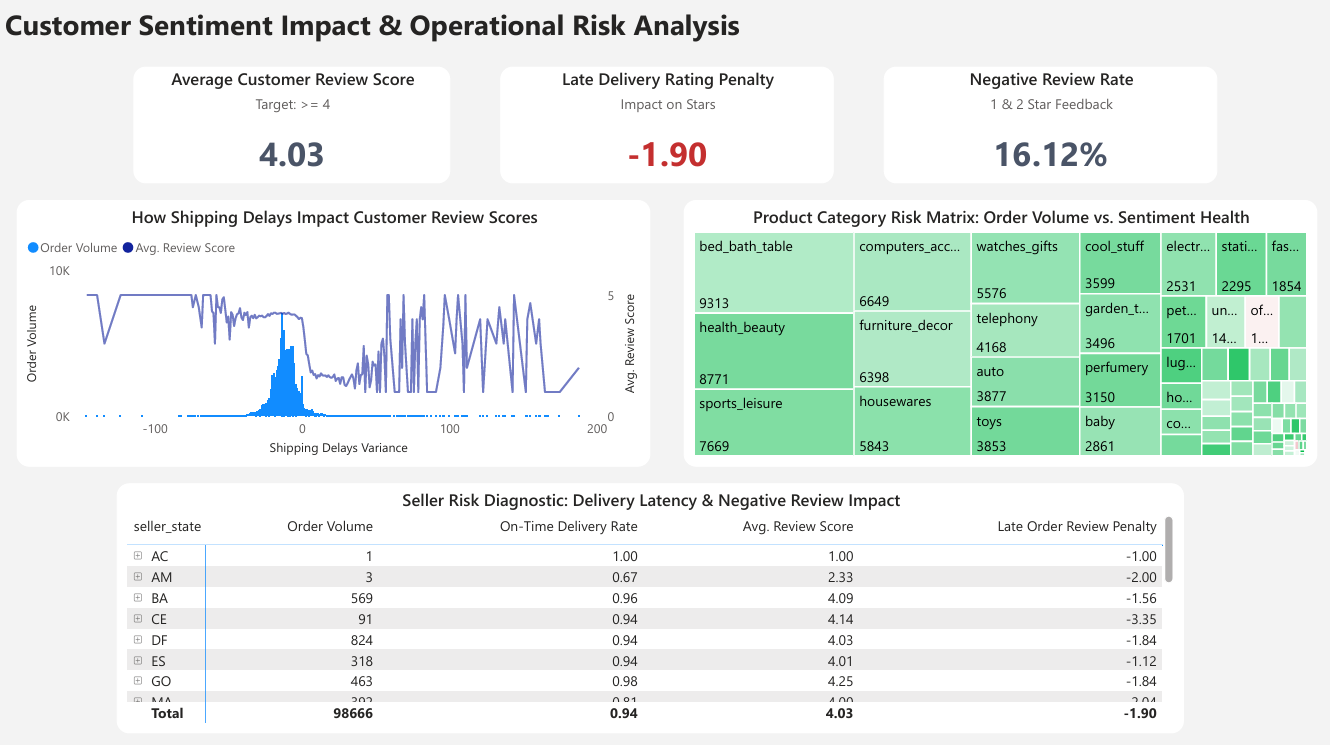

The page's visual inventory and layout, read from the dashboard file:
{"tool":"powerbi","page":{"name":"Page 3 Customer Sentiment & Risk Analysis","canvas":[1280,720],"ordinal":2},"visuals":[{"type":"textbox","box":[0,0,1279.4,48.7],"z":0},{"type":"cardVisual","title":"Average Customer Review Score","fields":{"Data":["_Measures Bank.average_review_score"]},"box":[128,64,304,112],"z":1000},{"type":"cardVisual","title":"Late Delivery Rating Penalty","fields":{"Data":["_Measures Bank.late_order_review_penalty"]},"box":[480,64,320,112],"z":2000},{"type":"cardVisual","title":"Negative Review Rate","fields":{"Data":["_Measures Bank.negative_review_rate"]},"box":[848,64,320,112],"z":3000},{"type":"lineClusteredColumnComboChart","title":"How Shipping Delays Impact Customer Review Scores","fields":{"Category":["analytics vw_customer_sentiment.delivery_variance_days"],"Y":["_Measures Bank.total_order_volume"],"Y2":["_Measures Bank.average_review_score"]},"box":[16,192,608,256],"z":4000},{"type":"treemap","title":"Product Category Risk Matrix: Order Volume vs. Sentiment Health","fields":{"Group":["analytics vw_customer_sentiment.product_category_name_english"],"Values":["_Measures Bank.total_order_volume"]},"box":[656,192,608,256],"z":5000},{"type":"pivotTable","title":"Seller Risk Diagnostic: Delivery Latency & Negative Review Impact","fields":{"Rows":["analytics vw_bottleneck_analysis.seller_state","analytics vw_customer_sentiment.seller_id"],"Values":["_Measures Bank.total_order_volume","_Measures Bank.on_time_delivery_rate","_Measures Bank.average_review_score","_Measures Bank.late_order_review_penalty"]},"box":[112,464,1024,240],"z":6000}]}

Visuals, with their boxes in screenshot pixels (x1, y1, x2, y2), scaled from the page's 1280x720 canvas onto the 1330x745 screenshot:
textbox: rect(0, 0, 1329, 50)
"Average Customer Review Score" cardVisual: rect(133, 66, 449, 182)
"Late Delivery Rating Penalty" cardVisual: rect(499, 66, 831, 182)
"Negative Review Rate" cardVisual: rect(881, 66, 1214, 182)
"How Shipping Delays Impact Customer Review Scores" lineClusteredColumnComboChart: rect(17, 199, 648, 464)
"Product Category Risk Matrix: Order Volume vs. Sentiment Health" treemap: rect(682, 199, 1313, 464)
"Seller Risk Diagnostic: Delivery Latency & Negative Review Impact" pivotTable: rect(116, 480, 1180, 728)
